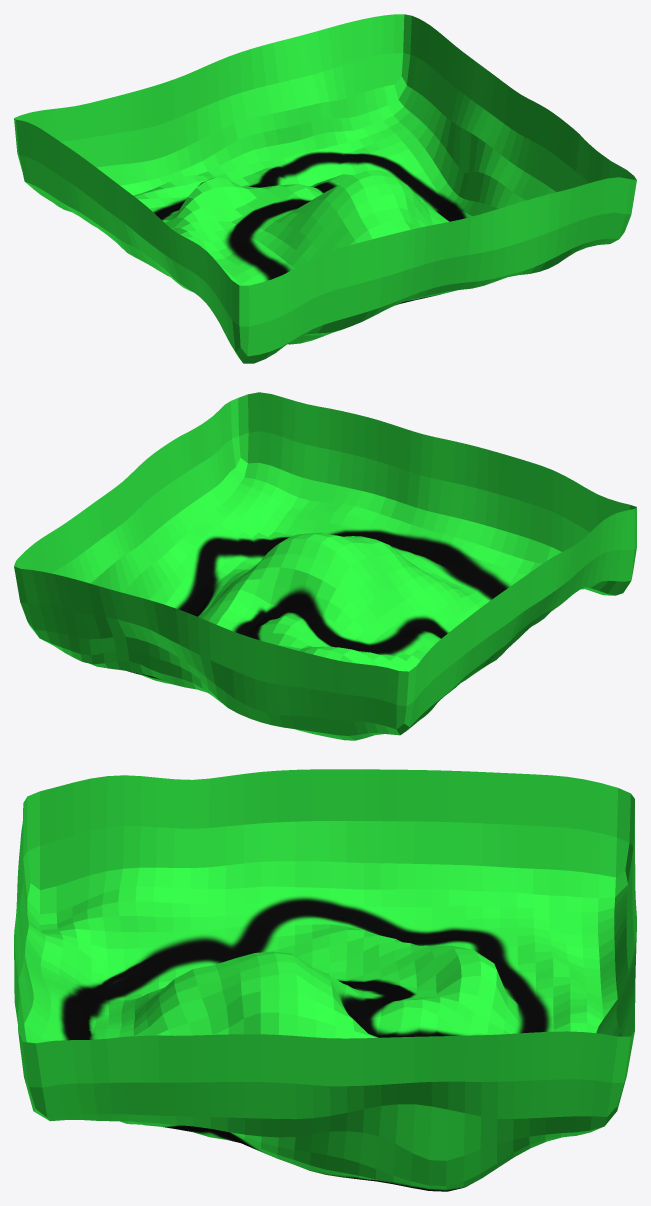
The model's file is circuito1.dae.
The picture shows the model from 3 angles, top to bottom: view 1: azimuth 30°, elevation 25°; view 2: azimuth 150°, elevation 25°; view 3: azimuth 270°, elevation 25°; orthographic projection. The views are drawn at different scales.
Parts seen in each view (by area): view 1: circuito1-col; view 2: circuito1-col; view 3: circuito1-col.
Boxes of the visible parts, box(x1,y1,x2,y2) form: circuito1-col: box(14, 14, 636, 363); circuito1-col: box(14, 392, 636, 740); circuito1-col: box(14, 769, 636, 1191).
Size of the model in its own units: 102 by 102 by 34.75.
